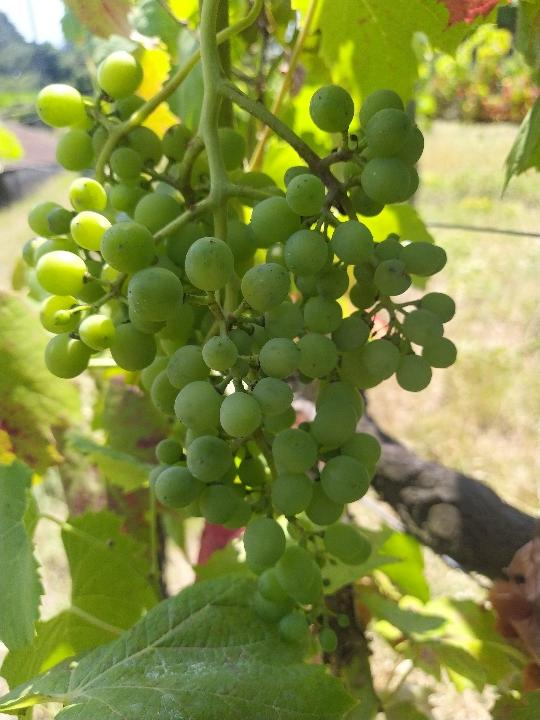grape: (20, 48, 459, 661)
